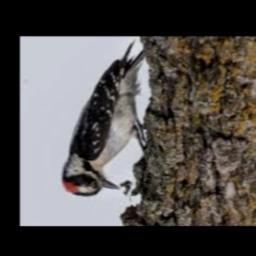Woodpecker: (61, 39, 146, 197)
